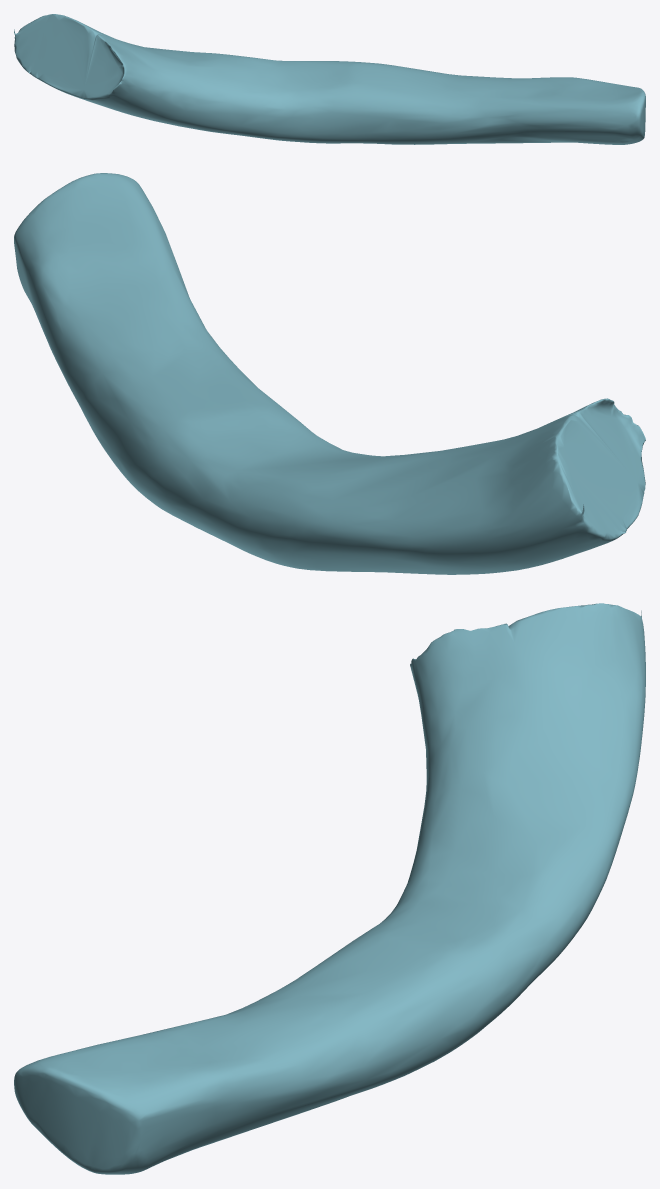
The picture shows the model from 3 angles, top to bottom: view 1: azimuth 30°, elevation 25°; view 2: azimuth 150°, elevation 25°; view 3: azimuth 270°, elevation 25°; orthographic projection. The views are drawn at different scales.
Visible parts, largest first — view 1: 右侧第六肋软骨; view 2: 右侧第六肋软骨; view 3: 右侧第六肋软骨.
Part boxes in pixels (x1,y1,x2,y2): 右侧第六肋软骨: (14, 14, 645, 144); 右侧第六肋软骨: (14, 173, 645, 574); 右侧第六肋软骨: (14, 603, 645, 1174).
Bounding box in the file's own units: 0.1217 × 0.0333 × 0.0821.
